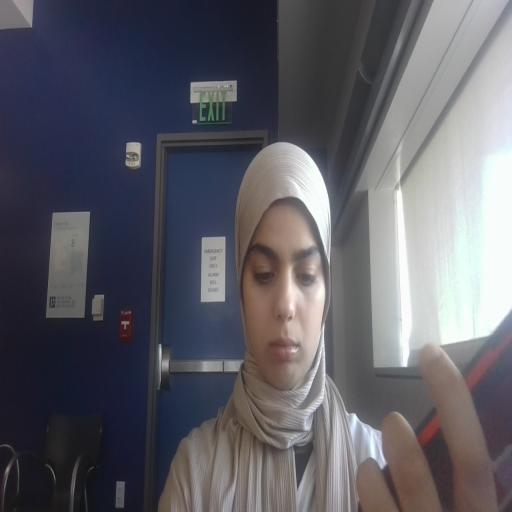objects: (364, 333, 512, 511)
phone: (363, 320, 512, 512)
